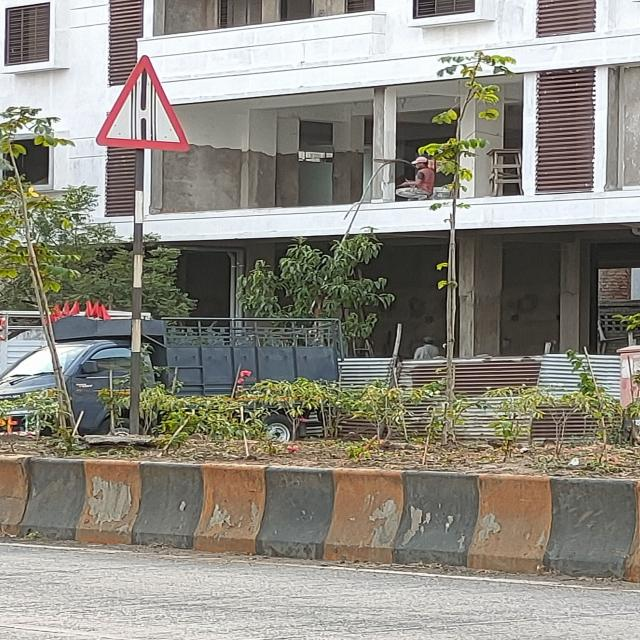GAP_IN_MEDIAN: (94, 54, 192, 150)
